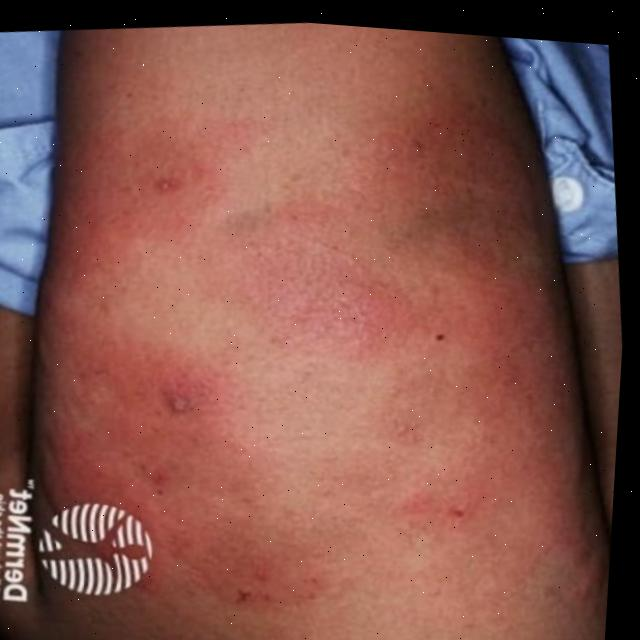Eczema: (77, 68, 555, 601)
